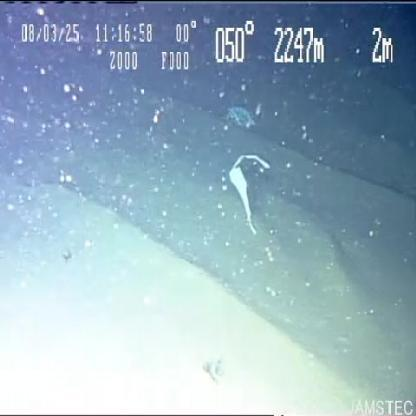Rác: (230, 156, 252, 218)
